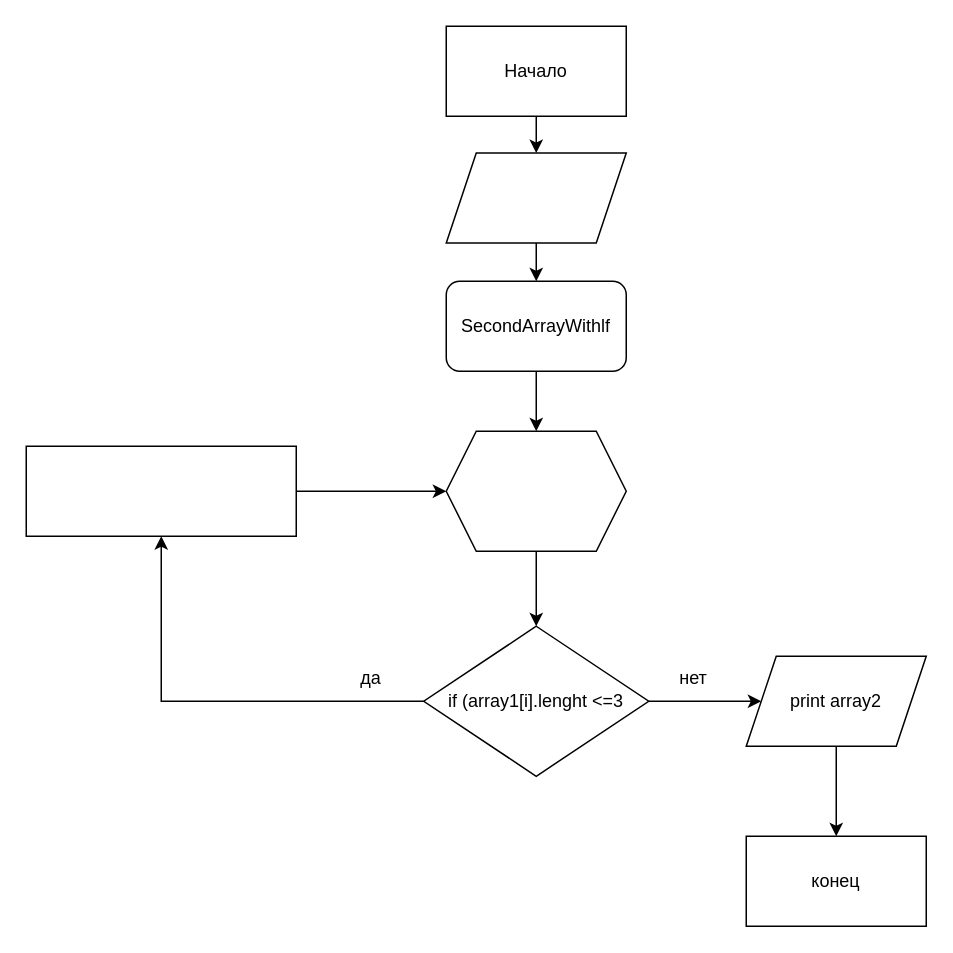
Some shapes in this 953 by 953 pixel diagram are drawn without their labels. The shapes that lost their labels are listed below. From the top down, each one's centre as x and y in pixels, then its label:
At pixel 535 197: "string[] array1 sring array2 int count=0".
At pixel 160 490: "array2[count] = array1[i]; count++".
At pixel 535 490: "for (int i =0; i <array1.length; i++)".
